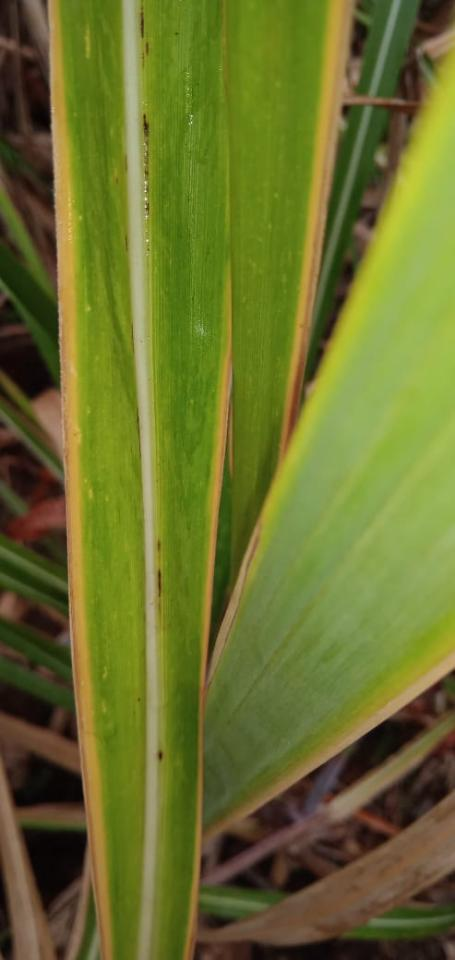RedRot: (157, 750, 163, 762)
Rust: (143, 112, 150, 217), (140, 5, 145, 38), (157, 568, 162, 600), (156, 539, 162, 555), (141, 52, 146, 69), (145, 41, 149, 56), (125, 236, 128, 252)
Yellow: (248, 57, 454, 584), (48, 0, 118, 959), (210, 625, 454, 830), (182, 274, 232, 959), (277, 0, 345, 470)
